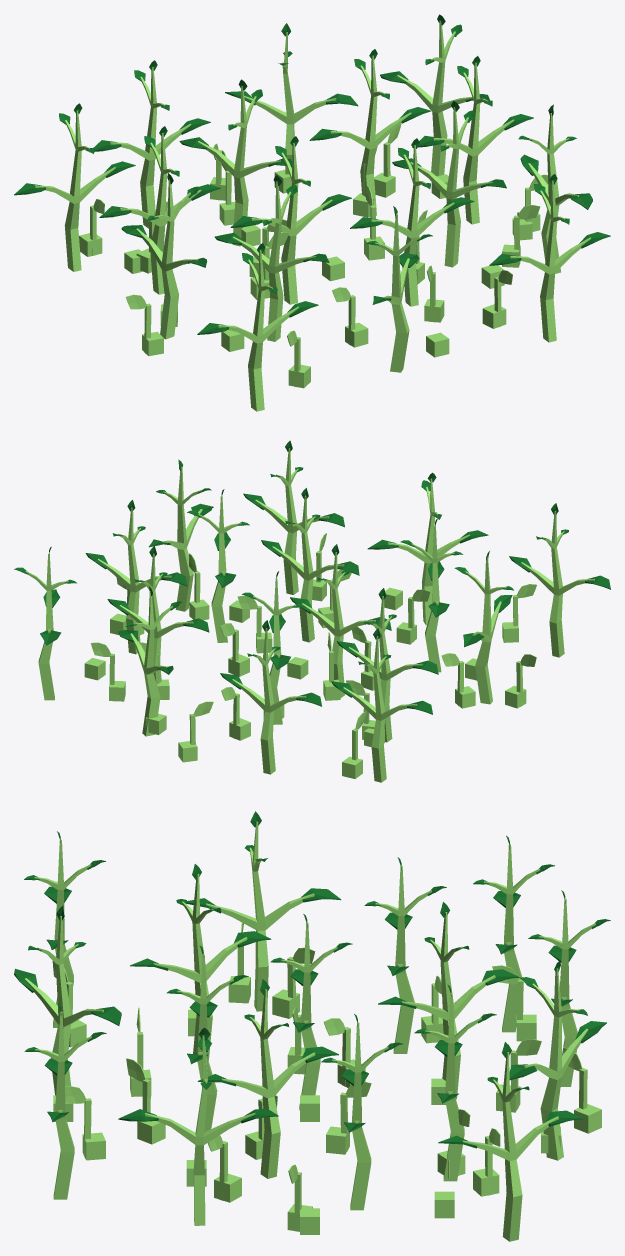
The model's file is Beansprouts.fbx.
The picture shows the model from 3 angles, top to bottom: view 1: azimuth 30°, elevation 25°; view 2: azimuth 150°, elevation 25°; view 3: azimuth 270°, elevation 25°; orthographic projection. The views are drawn at different scales.
Visible parts, largest first — view 1: Phase 3, Phase 2, Phase 1; view 2: Phase 3, Phase 2, Phase 1; view 3: Phase 3, Phase 2, Phase 1.
Part boxes in pixels (bbox=[...]): Phase 3: bbox=[14, 14, 610, 411]; Phase 2: bbox=[79, 124, 548, 388]; Phase 1: bbox=[124, 169, 540, 357]; Phase 3: bbox=[14, 440, 610, 782]; Phase 2: bbox=[90, 533, 536, 778]; Phase 1: bbox=[84, 587, 477, 747]; Phase 3: bbox=[14, 811, 610, 1241]; Phase 2: bbox=[52, 922, 601, 1231]; Phase 1: bbox=[53, 1009, 560, 1234].
Size of the model in its own units: 94.99 by 35.6 by 89.99.
